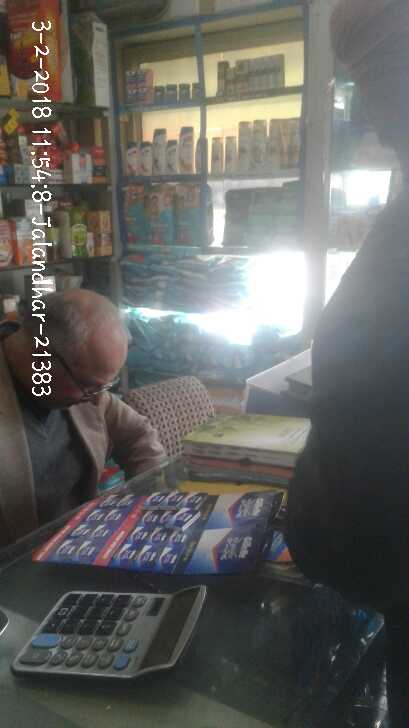vicks: (125, 67, 203, 103)
